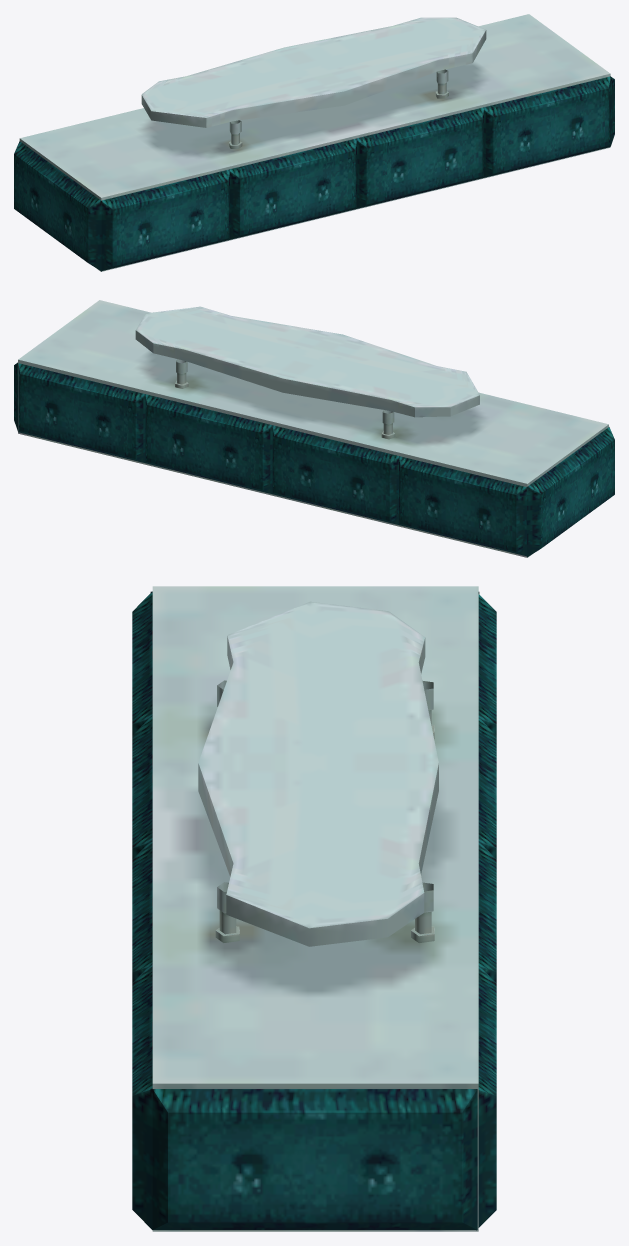
The model's file is furni_0200081_03.FBX.
3 views of the same model, one above another, from view 1: azimuth 30°, elevation 25°; view 2: azimuth 150°, elevation 25°; view 3: azimuth 270°, elevation 25° (orthographic). The views are drawn at different scales.
Visible parts, largest first — view 1: furni_0200081_03; view 2: furni_0200081_03; view 3: furni_0200081_03.
Part boxes in pixels (x1,y1,x2,y2): furni_0200081_03: (14, 14, 614, 271); furni_0200081_03: (14, 300, 614, 557); furni_0200081_03: (132, 586, 496, 1231).
Bounding box in the file's own units: 248 × 49.56 × 74.34.
1 material, 1 textured.
